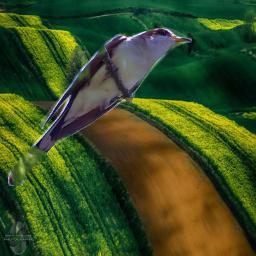Cuckoo: (8, 27, 192, 186)
